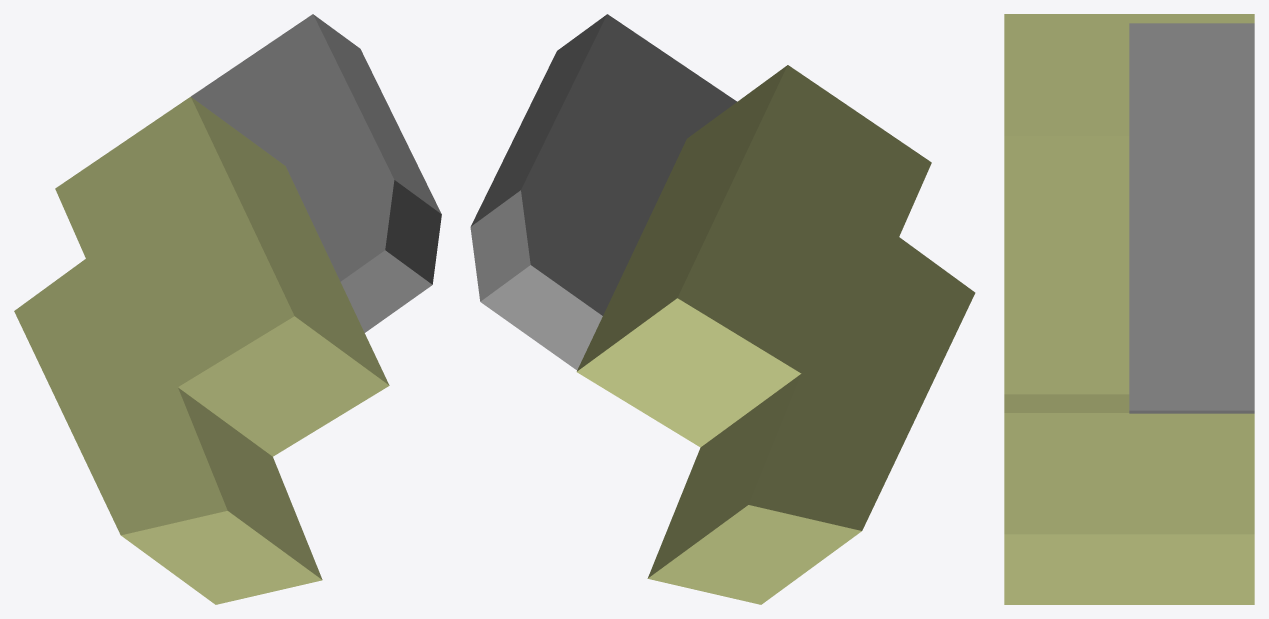
The picture shows the model from 3 angles, left to right: view 1: azimuth 30°, elevation 25°; view 2: azimuth 150°, elevation 25°; view 3: azimuth 270°, elevation 25°; orthographic projection. The views are drawn at different scales.
Visible parts, largest first — view 1: 0_1_0_2_0_0_1_3_2_3; view 2: 0_1_0_2_0_0_1_3_2_3; view 3: 0_1_0_2_0_0_1_3_2_3.
Boxes of the visible parts, left/top/right/bottom form: 0_1_0_2_0_0_1_3_2_3: left=14, top=14, right=441, bottom=604; 0_1_0_2_0_0_1_3_2_3: left=470, top=14, right=975, bottom=604; 0_1_0_2_0_0_1_3_2_3: left=1004, top=14, right=1254, bottom=604.
Size of the model in its own units: 13.87 by 16.58 by 6.
